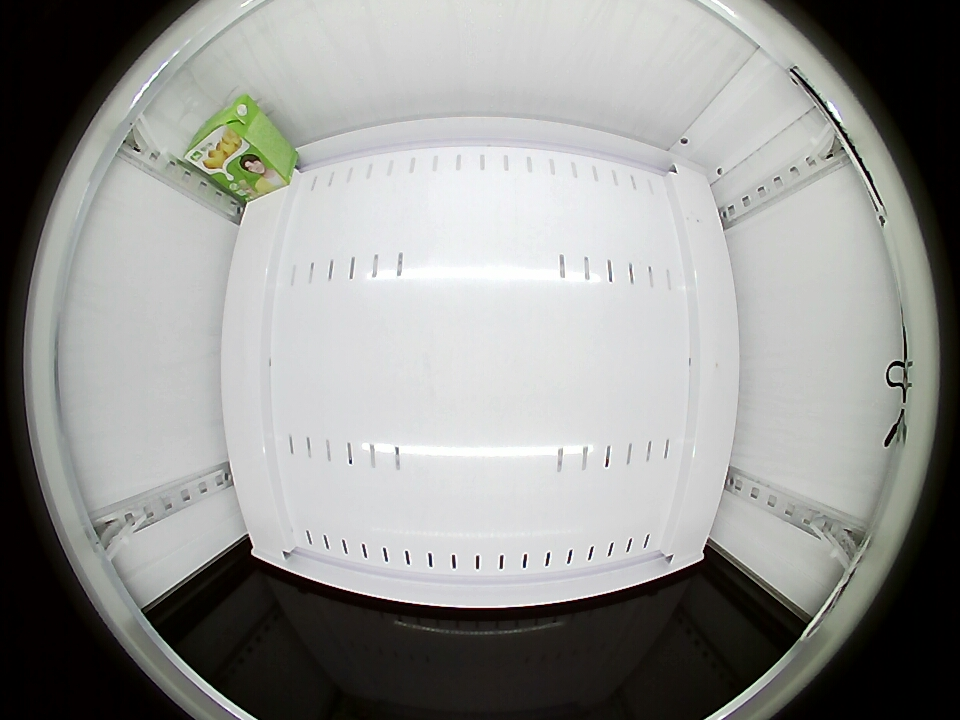mengniuzaocan: (184, 92, 264, 176)
